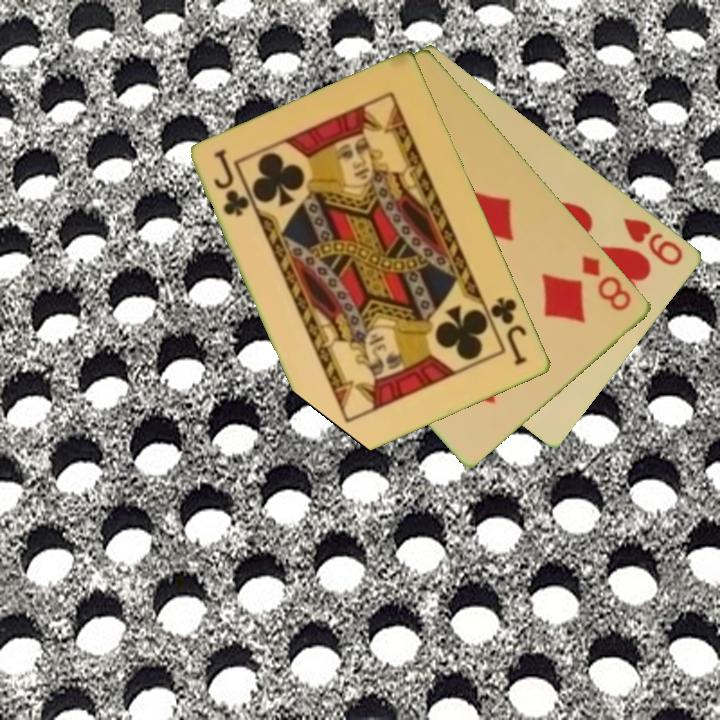8d: (578, 252, 635, 314)
9h: (620, 214, 687, 269)
Jc: (487, 293, 530, 369), (211, 146, 253, 220)
